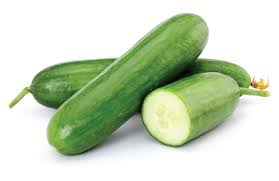cucumber: (26, 14, 254, 156)
